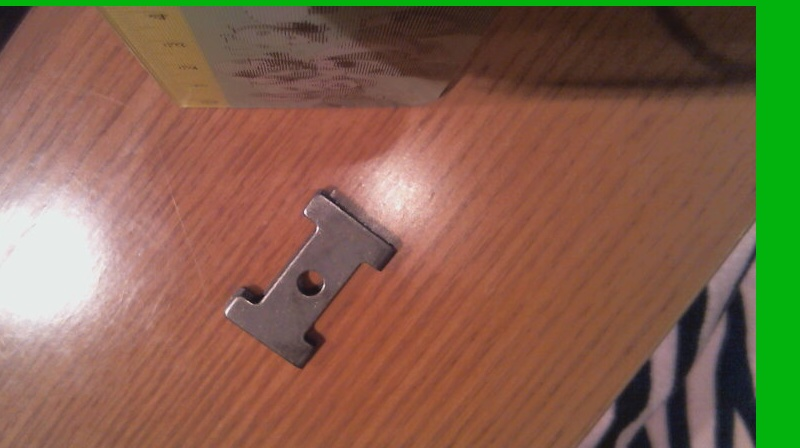O002: (220, 186, 400, 368)
